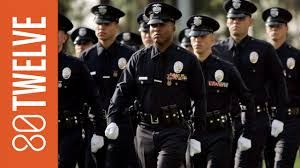uniform: (126, 43, 194, 161), (216, 35, 274, 152), (75, 43, 130, 146), (190, 53, 234, 161), (59, 52, 90, 158)
